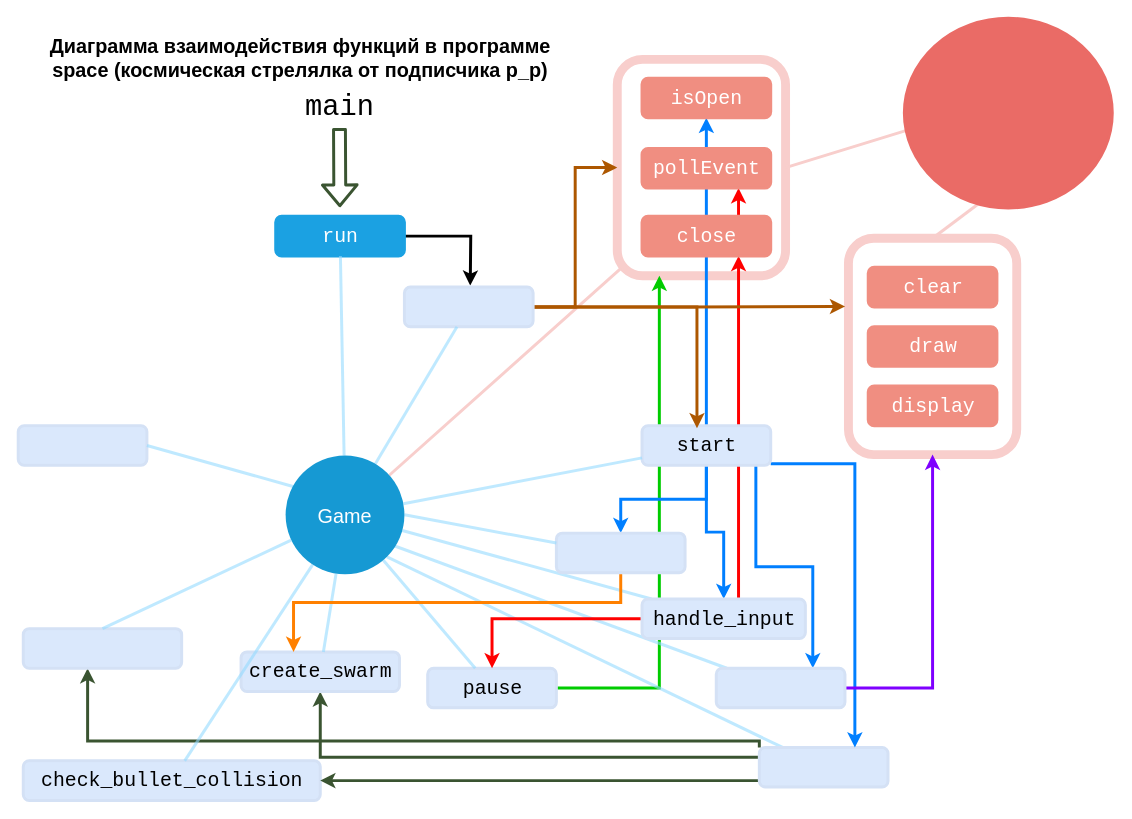
Some shapes in this 1132 by 819 pixel diagram are drawn without their labels. Here are the shapes that lost their labels. From the top down, the centre of each, then its label:
[1007,112]: sf::RenderWindow
[468,306]: menu
[82,445]: save_result
[620,552]: init
[102,648]: is_collision
[780,687]: render
[823,766]: update
